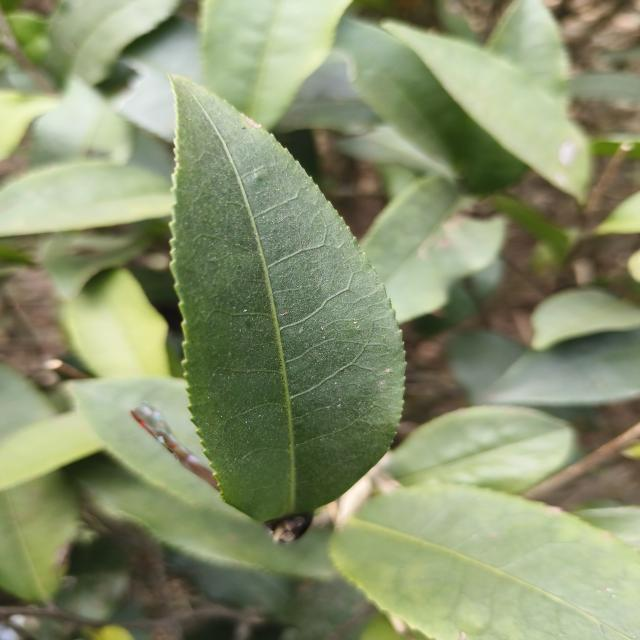Leaf: (171, 76, 404, 520), (330, 484, 640, 640), (384, 21, 591, 199), (76, 461, 333, 579), (69, 377, 244, 516), (360, 176, 505, 323), (199, 0, 351, 129), (335, 18, 466, 165), (387, 406, 574, 493), (0, 160, 173, 237), (484, 330, 640, 406), (61, 269, 170, 377), (47, 0, 178, 85), (114, 18, 201, 141), (0, 471, 79, 602), (33, 77, 133, 165), (0, 410, 105, 490), (167, 552, 295, 617), (485, 0, 568, 98), (531, 288, 640, 351), (446, 329, 526, 404), (456, 117, 527, 193), (0, 365, 55, 440), (0, 90, 58, 161)
